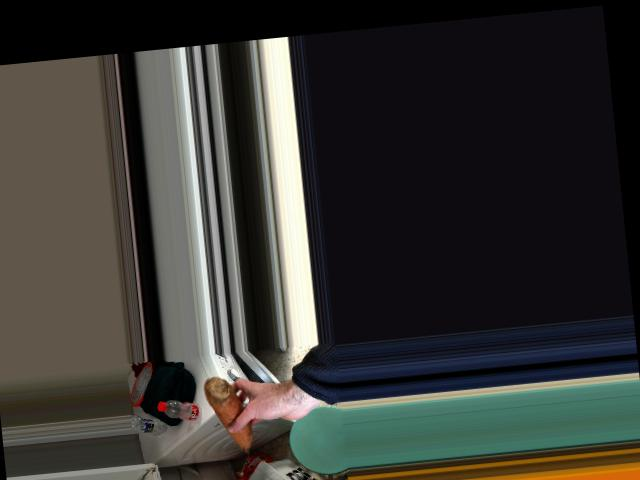sweet_potato: (200, 378, 260, 451)
